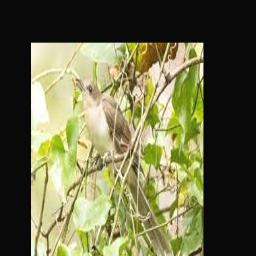Cuckoo: (76, 77, 172, 256)
